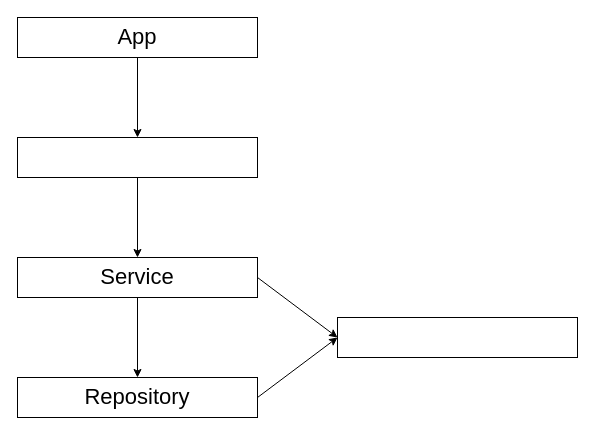
Some shapes in this 595 by 435 pixel diagram are drawn without their labels. The centre of each missing label's shape, as x and y in pixels:
Controller: (x=137, y=157)
Domain: (x=457, y=337)
